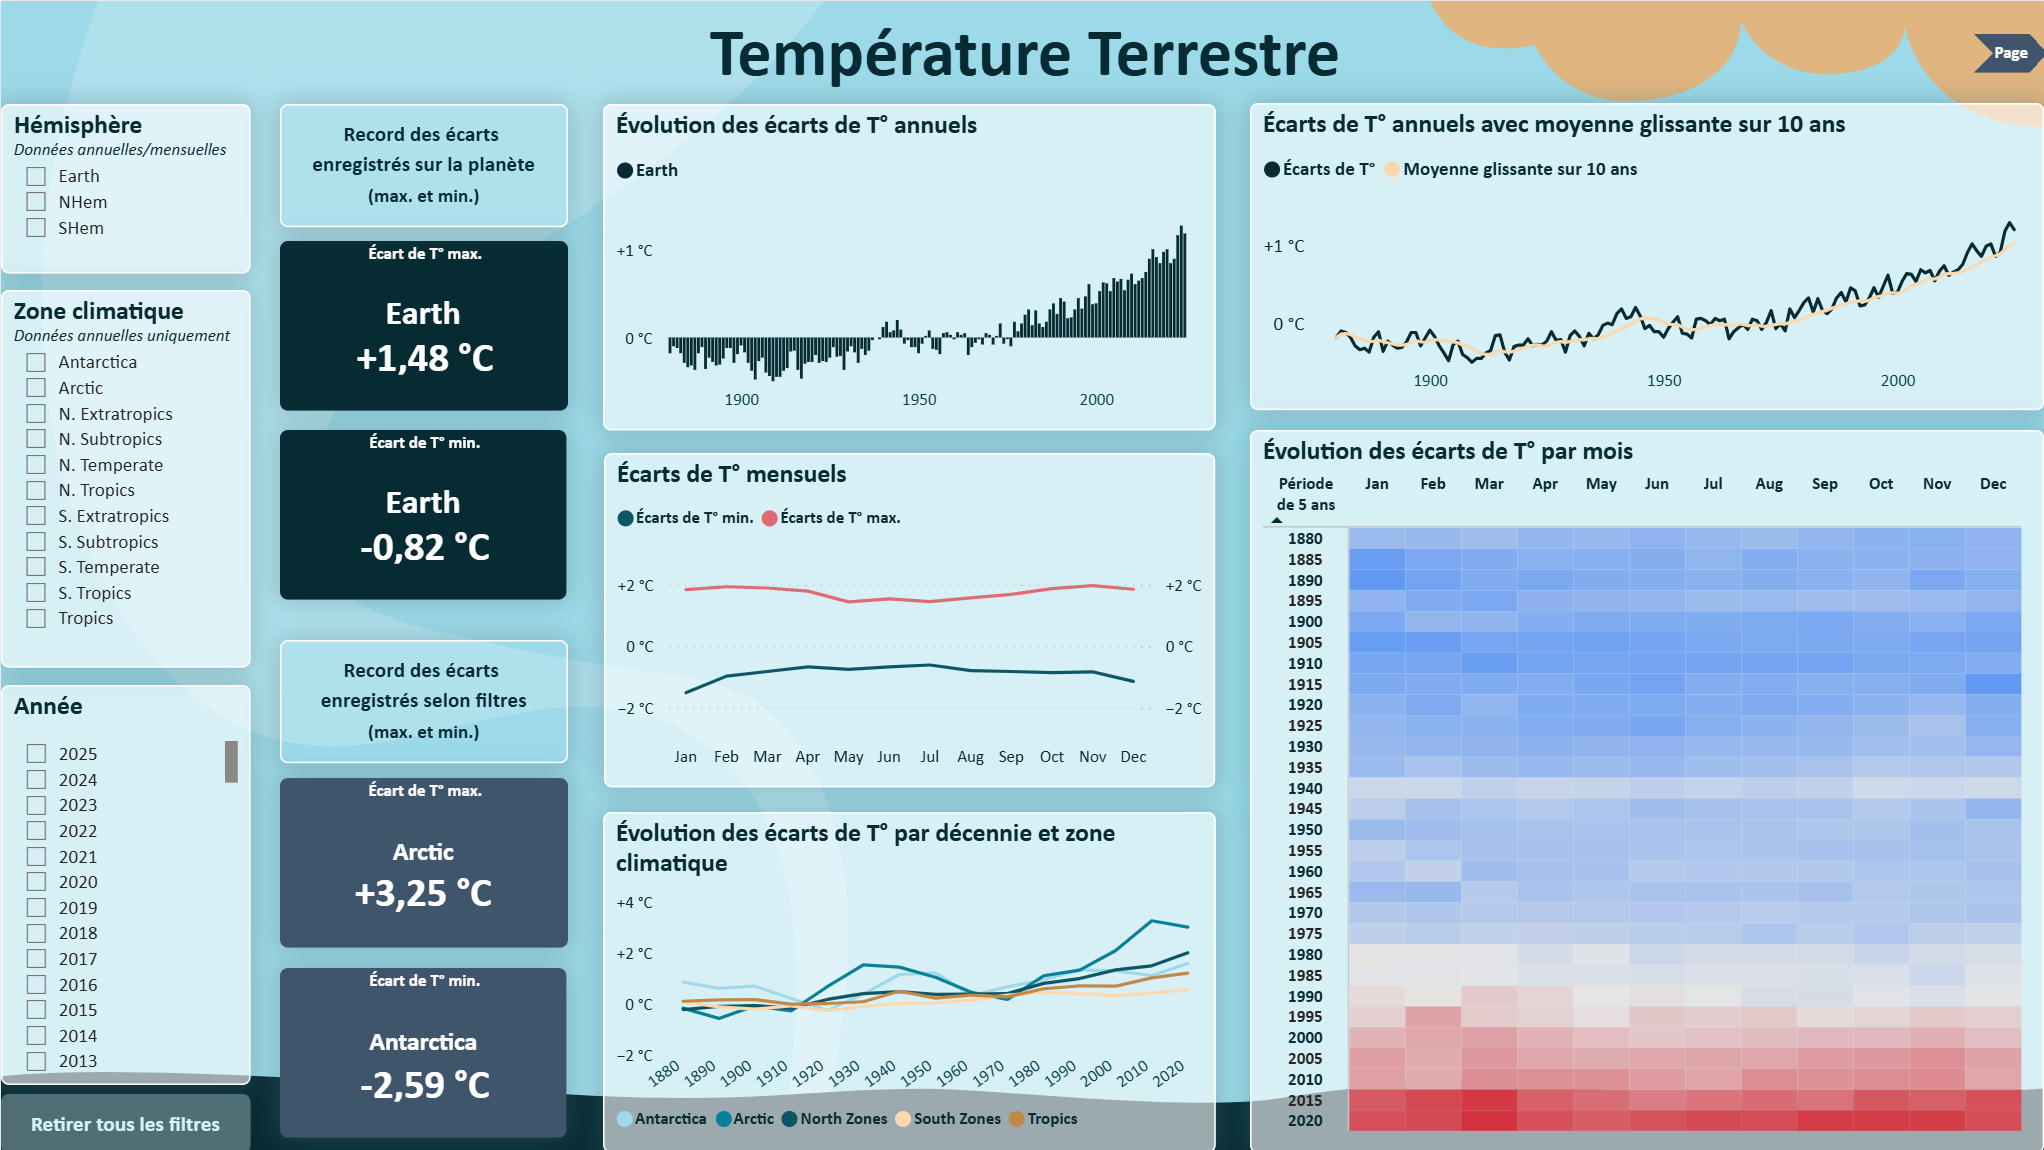

What the dashboard file says about the page in this screenshot:
{"tool":"powerbi","page":{"name":"Focus sur les écarts de température","canvas":[1280,720],"ordinal":1},"visuals":[{"type":"textbox","box":[0,0,1280,63.8],"z":0},{"type":"cardVisual","title":"Écart de T° max.","fields":{"Data":["Max(Anomalies Températures LOTI.valeur)"],"Rows":["Anomalies Températures LOTI.Zone"]},"box":[174.3,485.9,179.6,106],"z":1000},{"type":"lineChart","title":"Écarts de T° annuels avec moyenne glissante sur 10 ans","fields":{"Category":["Anomalies Températures LOTI.Year"],"Y":["Max(Anomalies Températures LOTI.écart T°)"],"Y2":["Model Measurres.Moyenne glissante 10 ans"]},"box":[780.9,63.7,496.6,192.4],"z":2000},{"type":"clusteredColumnChart","title":"Évolution des écarts de T° annuels","fields":{"Category":["Anomalies Températures LOTI.Year"],"Series":["Anomalies Températures LOTI.Continent"],"Y":["Max(Anomalies Températures LOTI.écart T°)"]},"box":[376.3,64.1,382.5,203.6],"z":3000},{"type":"shape","box":[1233.4,20.6,46.6,24],"z":4000},{"type":"lineChart","title":"Écarts de T° mensuels","fields":{"Category":["Anomalies Températures LOTI.Month"],"Y":["Model Measurres.Min d'écart"],"Y2":["Model Measurres.Max Hausse d'écart"]},"box":[376.6,282.5,382.1,208.5],"z":5000},{"type":"cardVisual","title":"Écart de T° max.","fields":{"Data":["Max(Anomalies Températures LOTI.valeur)","select"],"Rows":["Anomalies Températures LOTI.Zone"]},"box":[174.3,150.1,179.6,106.4],"z":6000},{"type":"cardVisual","title":"Écart de T° min.","fields":{"Data":["Model Measurres.Max Baisse d'écart","select"],"Rows":["Anomalies Températures LOTI.Zone"]},"box":[174.3,267.9,179,106],"z":7000},{"type":"cardVisual","title":"Écart de T° min.","fields":{"Data":["Model Measurres.Max Baisse d'écart","select"],"Rows":["Anomalies Températures LOTI.Zone"]},"box":[174.3,604.1,179,106],"z":8000},{"type":"pivotTable","title":"Évolution des écarts de T° par mois","fields":{"Columns":["Anomalies Températures LOTI.Month"],"Rows":["Anomalies Températures LOTI.Year (groups)"],"Values":["Max(Anomalies Températures LOTI.écart T°)"]},"box":[780.9,268,497.3,451.7],"z":9000},{"type":"slicer","title":"Hémisphère","fields":{"Values":["Anomalies Températures LOTI.Hémisphère"]},"box":[0,64.6,155.6,105.8],"z":10000},{"type":"slicer","title":"Année","fields":{"Values":["Anomalies Températures LOTI.Year"]},"box":[0,427.7,155.6,249.5],"z":11000},{"type":"lineChart","title":"Évolution des écarts de T° par décennie et zone climatique","fields":{"Category":["Anomalies Températures LOTI.Year (groups) 2"],"Series":["Anomalies Températures LOTI.Zone (groups)"],"Y":["Max(Anomalies Températures LOTI.écart T°)"]},"box":[376.3,507.2,382.5,212.9],"z":12000},{"type":"textbox","box":[174.3,64.3,179.6,77.2],"z":13000},{"type":"textbox","box":[174.3,399.4,179.6,77.2],"z":14000},{"type":"slicer","title":"Zone climatique","fields":{"Values":["Anomalies Températures LOTI.Zone"]},"box":[0,180.5,155.6,235.8],"z":15000},{"type":"actionButton","box":[0,683.2,155.6,36.8],"z":16000}]}

Visuals, with their boxes in screenshot pixels (x1, y1, x2, y2), scaled from the page's 1280x720 canvas onto the 2044x1150 screenshot:
textbox: select_region(0, 0, 2043, 102)
"Écart de T° max." cardVisual: select_region(278, 776, 565, 945)
"Écarts de T° annuels avec moyenne glissante sur 10 ans" lineChart: select_region(1247, 102, 2040, 409)
"Évolution des écarts de T° annuels" clusteredColumnChart: select_region(601, 102, 1212, 428)
shape: select_region(1970, 33, 2043, 71)
"Écarts de T° mensuels" lineChart: select_region(601, 451, 1212, 784)
"Écart de T° max." cardVisual: select_region(278, 240, 565, 410)
"Écart de T° min." cardVisual: select_region(278, 428, 564, 597)
"Écart de T° min." cardVisual: select_region(278, 965, 564, 1134)
"Évolution des écarts de T° par mois" pivotTable: select_region(1247, 428, 2041, 1149)
"Hémisphère" slicer: select_region(0, 103, 248, 272)
"Année" slicer: select_region(0, 683, 248, 1082)
"Évolution des écarts de T° par décennie et zone climatique" lineChart: select_region(601, 810, 1212, 1149)
textbox: select_region(278, 103, 565, 226)
textbox: select_region(278, 638, 565, 761)
"Zone climatique" slicer: select_region(0, 288, 248, 665)
actionButton: select_region(0, 1091, 248, 1149)
